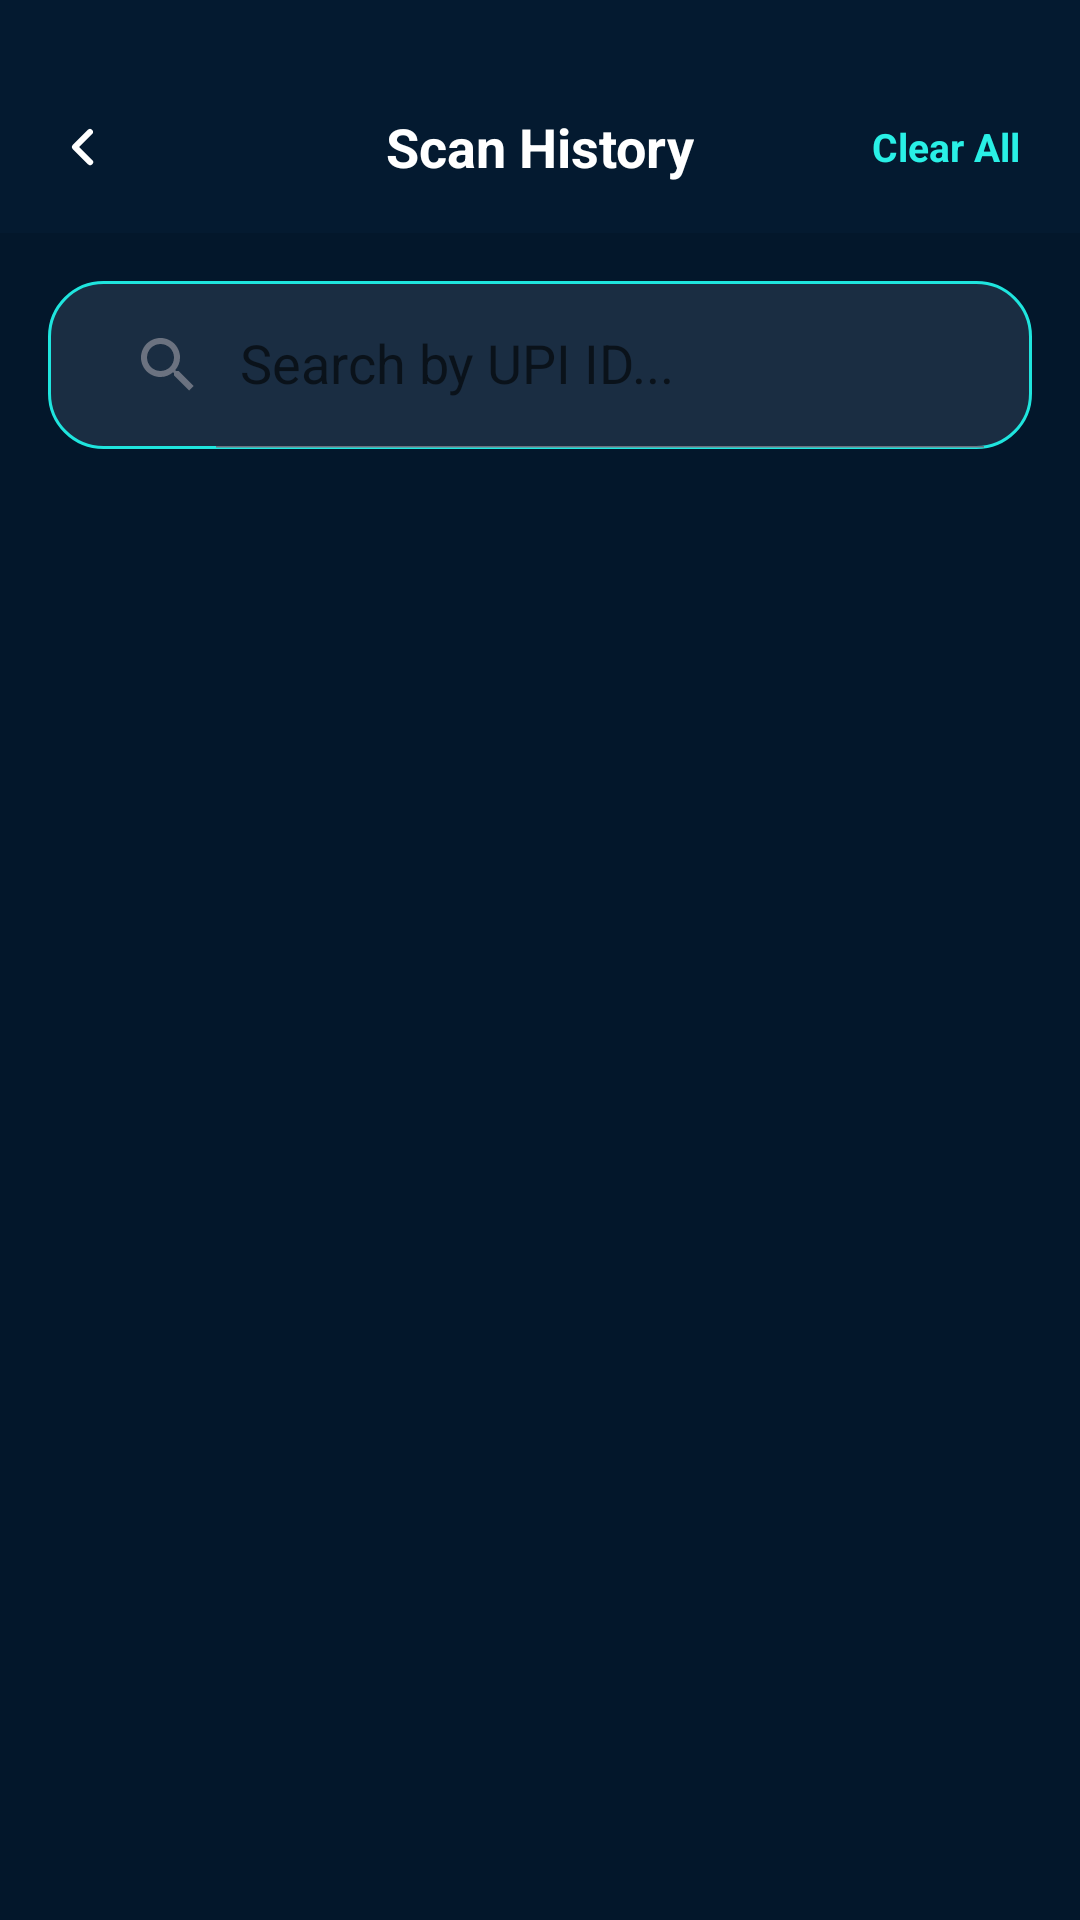

Where to tap for icons on this 1080*1920 app screen, as (x,y):
arrow left: (83,147)
